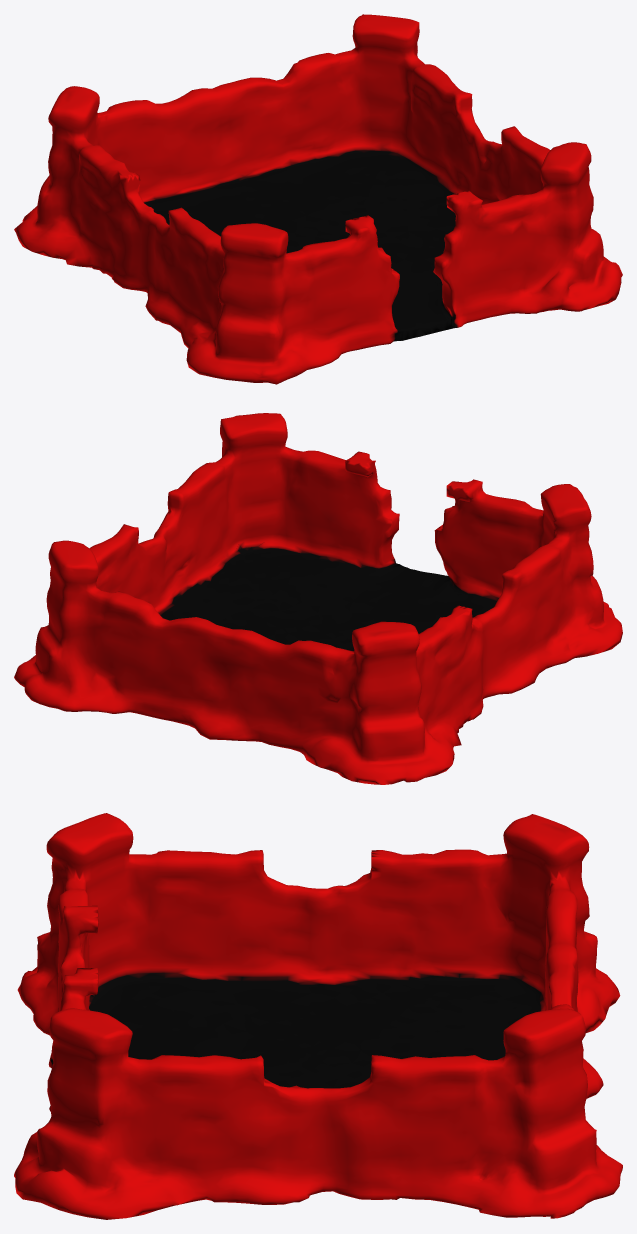
File: mining_zone_building.glb
3 views of the same model, one above another, from view 1: azimuth 30°, elevation 25°; view 2: azimuth 150°, elevation 25°; view 3: azimuth 270°, elevation 25° (orthographic). The views are drawn at different scales.
Parts seen in each view (by area): view 1: Mesh_0; view 2: Mesh_0; view 3: Mesh_0.
Part boxes in pixels (x1,y1,x2,y2): Mesh_0: [14, 14, 622, 384]; Mesh_0: [14, 413, 622, 784]; Mesh_0: [14, 813, 622, 1219].
Size of the model in its own units: 1.91 by 0.5658 by 1.88.
